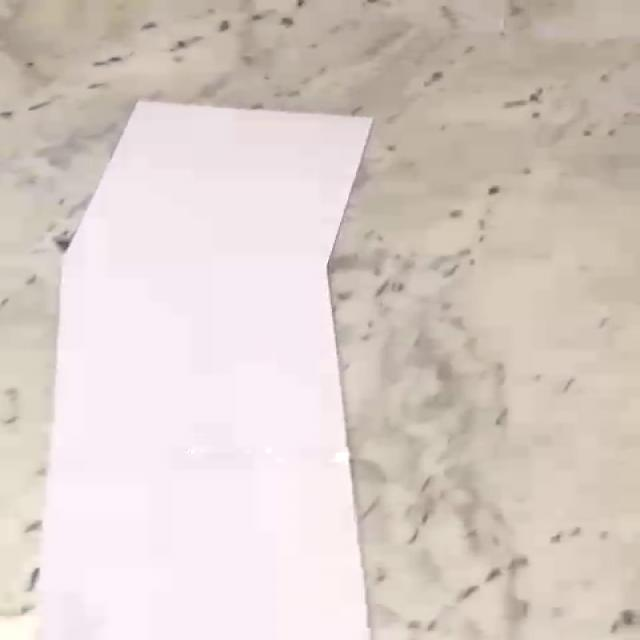road: (36, 100, 375, 640)
